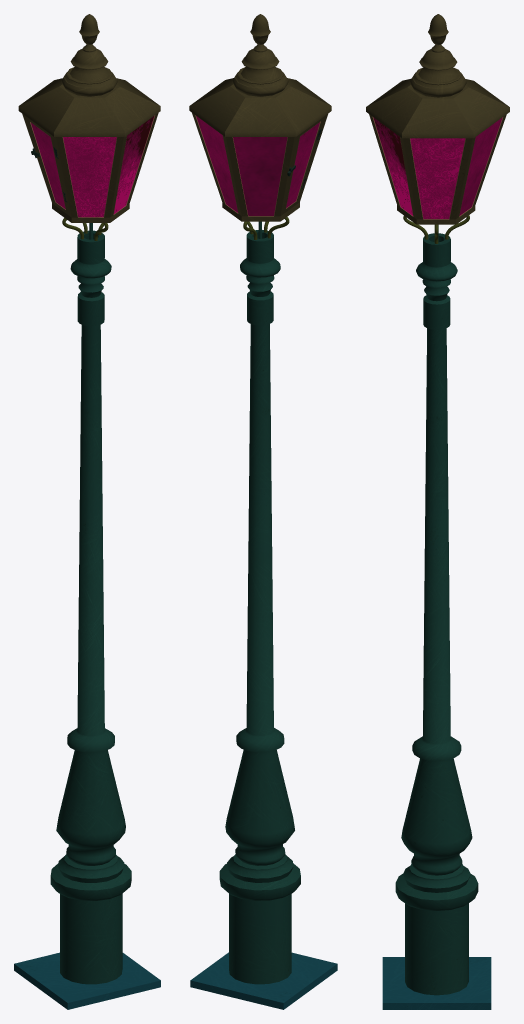
File: licht-vintage.glb
The picture shows the model from 3 angles, left to right: view 1: azimuth 30°, elevation 25°; view 2: azimuth 150°, elevation 25°; view 3: azimuth 270°, elevation 25°; orthographic projection.
Parts seen in each view (by area): view 1: Victorian Gas Street Light; view 2: Victorian Gas Street Light; view 3: Victorian Gas Street Light.
Part boxes in pixels (box(x1,y1,x2,y2)): Victorian Gas Street Light: box(14, 14, 160, 1009); Victorian Gas Street Light: box(189, 14, 337, 1009); Victorian Gas Street Light: box(366, 14, 509, 1009).
Bounding box in the file's own units: 0.3651 × 3.15 × 0.4211.
1 material, 1 textured.
